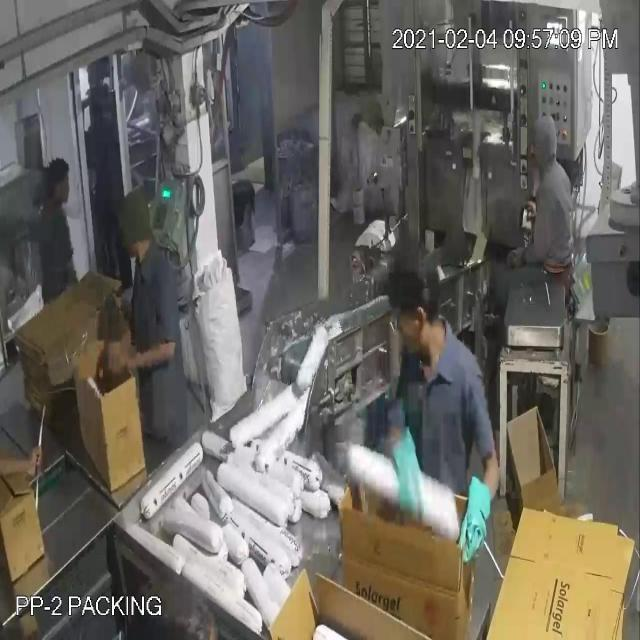No_Gloves: (26, 51, 485, 511)
